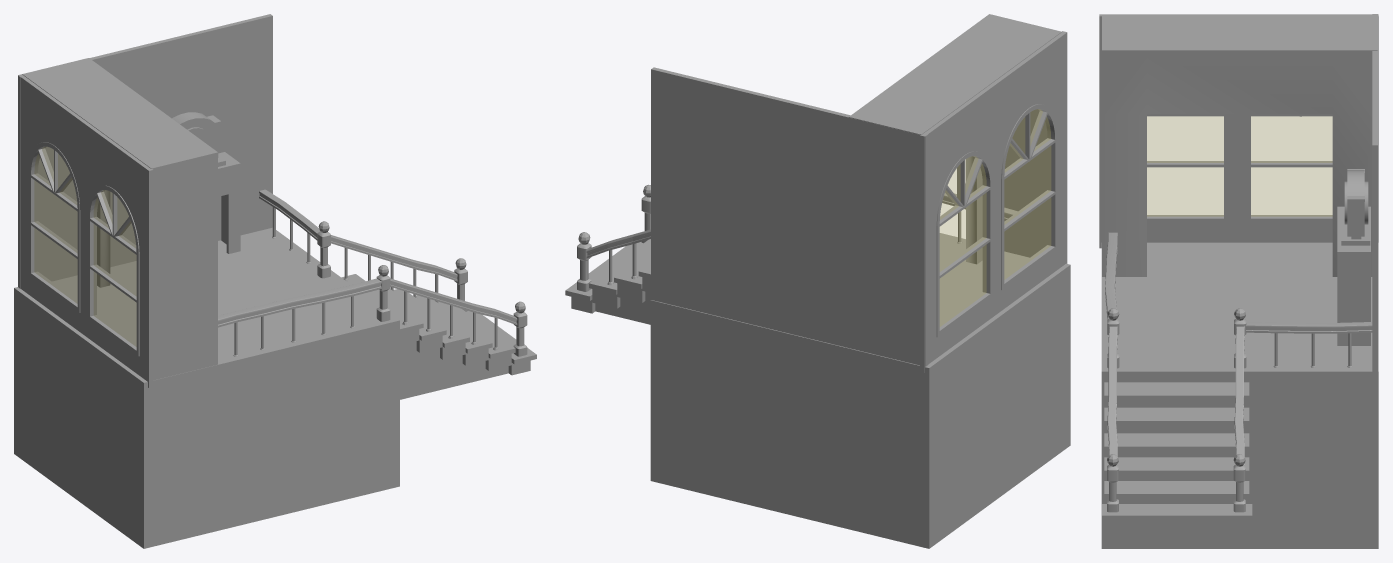
File: start_area_test.fbx
3 renders of one model, left to right at view 1: azimuth 30°, elevation 25°; view 2: azimuth 150°, elevation 25°; view 3: azimuth 270°, elevation 25°, orthographic. The views are drawn at different scales.
Visible parts, largest first — view 1: start_area_test; view 2: start_area_test; view 3: start_area_test.
Part boxes in pixels (x1,y1,x2,y2): start_area_test: [14, 14, 536, 548]; start_area_test: [565, 14, 1070, 548]; start_area_test: [1099, 14, 1378, 548].
Size of the model in its own units: 58.94 by 54.18 by 33.97.
